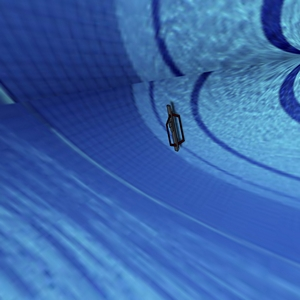submarine: (150, 93, 201, 169)
